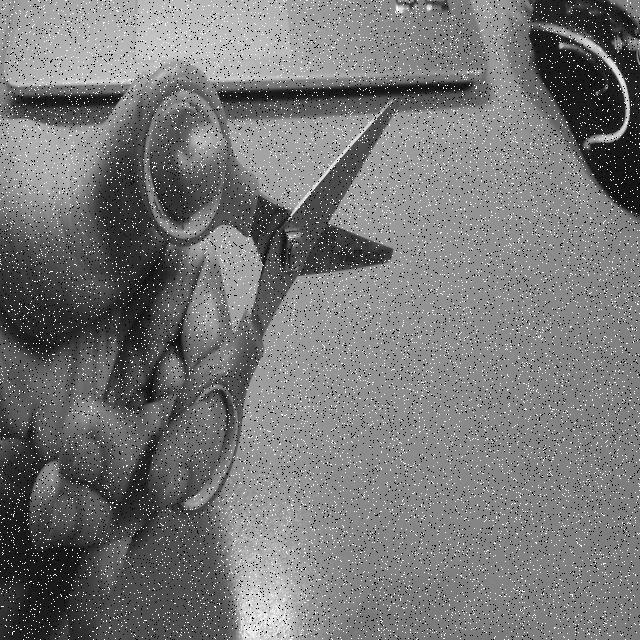scissors: (127, 51, 406, 524)
